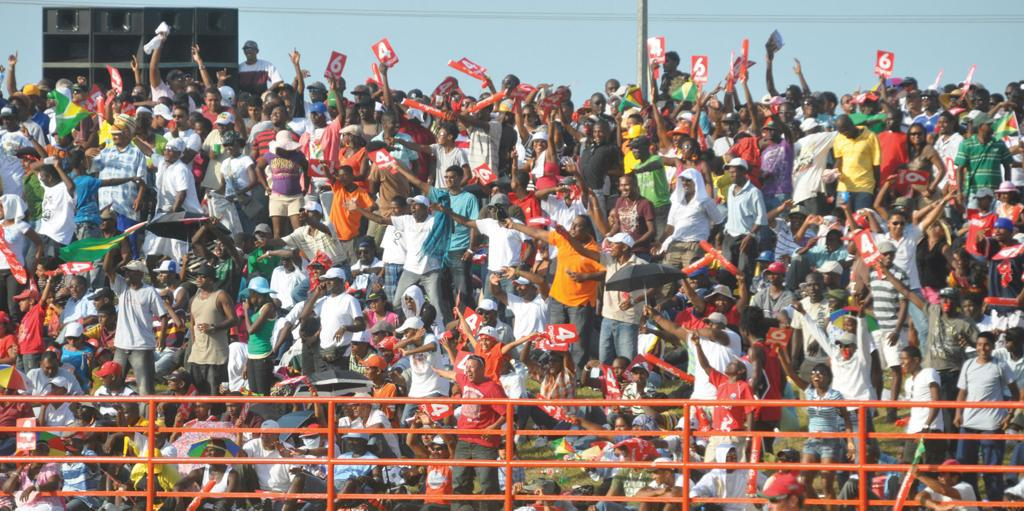face: (767, 494, 792, 511), (69, 278, 88, 300), (898, 351, 916, 374), (737, 320, 752, 346), (806, 278, 822, 302), (977, 337, 993, 361), (778, 104, 795, 126), (117, 402, 134, 424), (203, 441, 220, 463), (925, 221, 945, 239), (225, 398, 242, 419), (248, 287, 266, 306), (326, 274, 344, 293), (96, 424, 113, 444), (570, 218, 586, 239), (618, 176, 633, 198), (466, 361, 481, 383), (791, 213, 808, 232), (715, 296, 732, 315), (173, 108, 189, 128), (684, 142, 700, 162), (910, 126, 926, 146), (352, 402, 372, 418), (42, 360, 59, 378), (348, 437, 366, 454), (432, 443, 449, 461), (839, 343, 856, 361), (131, 84, 147, 103), (270, 106, 286, 125), (444, 170, 460, 189), (523, 108, 539, 127), (721, 119, 737, 138), (34, 262, 50, 281), (302, 436, 321, 452), (811, 370, 827, 389), (739, 105, 754, 125), (825, 233, 840, 253), (631, 140, 645, 161), (238, 294, 255, 311), (591, 95, 606, 114), (681, 176, 696, 195), (891, 216, 906, 235), (194, 400, 209, 419), (248, 103, 262, 123), (437, 126, 451, 146), (608, 209, 622, 229), (887, 113, 901, 133), (339, 399, 353, 419), (547, 355, 561, 375), (422, 428, 435, 449), (998, 188, 1015, 204), (2, 385, 18, 402), (263, 433, 279, 450), (312, 264, 328, 281), (370, 297, 386, 314), (613, 419, 629, 436), (818, 97, 833, 115), (937, 116, 952, 134), (861, 96, 875, 115), (359, 246, 373, 265), (941, 296, 955, 315), (592, 124, 605, 144), (539, 242, 552, 262), (896, 205, 912, 221), (99, 373, 115, 389), (361, 366, 377, 382), (678, 427, 694, 443), (778, 458, 794, 474), (937, 471, 953, 487), (804, 98, 819, 115), (303, 208, 318, 225), (351, 340, 366, 357), (615, 448, 630, 465), (537, 483, 552, 500), (339, 169, 353, 187), (411, 202, 425, 220), (672, 132, 686, 150), (663, 55, 677, 73), (837, 125, 855, 139), (213, 240, 227, 258), (955, 254, 969, 272), (10, 101, 24, 119), (207, 93, 220, 112), (381, 114, 394, 133), (728, 165, 741, 184), (613, 360, 626, 379), (726, 453, 739, 472), (1005, 335, 1018, 354), (963, 301, 976, 320), (138, 113, 154, 128), (491, 205, 506, 221), (758, 104, 774, 119), (975, 90, 987, 110), (1005, 84, 1017, 104), (46, 353, 62, 368), (75, 403, 90, 419), (371, 332, 386, 348), (164, 145, 178, 162), (310, 109, 324, 126), (626, 116, 640, 133), (785, 90, 799, 107), (92, 295, 106, 312), (22, 157, 36, 174), (280, 252, 293, 270), (480, 335, 493, 353), (633, 368, 646, 386), (843, 316, 856, 334), (863, 444, 875, 463), (219, 121, 234, 136), (842, 97, 857, 112), (499, 448, 514, 463), (725, 360, 740, 375), (977, 195, 991, 211), (98, 216, 112, 232), (157, 270, 171, 286), (35, 446, 51, 460), (480, 310, 494, 326), (881, 251, 895, 267), (194, 121, 207, 138), (174, 79, 187, 96), (461, 99, 474, 116), (406, 295, 419, 312), (632, 422, 645, 439), (285, 99, 296, 119), (112, 98, 124, 116), (37, 92, 49, 110), (267, 97, 281, 112), (560, 183, 574, 198), (907, 94, 921, 109), (921, 96, 936, 110), (194, 274, 208, 289), (403, 328, 417, 343), (514, 283, 528, 298), (674, 100, 689, 114), (51, 384, 66, 398), (158, 113, 171, 129), (309, 87, 322, 103), (329, 105, 342, 121), (493, 187, 506, 203), (500, 109, 513, 125), (607, 82, 620, 98), (993, 226, 1006, 242), (255, 231, 268, 247), (654, 469, 667, 485), (687, 277, 703, 290), (187, 86, 200, 102), (821, 271, 834, 287), (359, 104, 371, 121), (610, 241, 622, 258), (19, 296, 31, 313), (561, 102, 572, 120), (54, 133, 68, 147), (244, 46, 258, 60), (533, 139, 547, 153), (678, 118, 692, 132), (98, 352, 112, 366), (501, 76, 514, 91), (97, 313, 110, 328), (2, 116, 15, 131), (39, 170, 51, 186), (161, 292, 173, 308), (26, 95, 38, 111), (846, 240, 858, 256), (967, 88, 976, 109), (510, 174, 521, 191), (111, 133, 125, 146), (763, 127, 776, 141), (885, 85, 898, 99), (903, 82, 917, 95), (67, 336, 81, 349), (280, 146, 294, 159), (72, 88, 84, 103), (584, 120, 596, 135), (999, 103, 1011, 118), (46, 289, 56, 307), (65, 440, 80, 452), (896, 445, 906, 463), (455, 490, 467, 505), (482, 94, 493, 110), (948, 93, 959, 109), (80, 154, 90, 171), (354, 93, 367, 106), (390, 203, 403, 216), (166, 379, 179, 392), (240, 98, 252, 112), (333, 80, 345, 94), (556, 88, 568, 102), (708, 320, 722, 332), (560, 159, 571, 174), (611, 100, 622, 115), (651, 246, 662, 261), (223, 92, 234, 107), (279, 87, 291, 100), (768, 272, 780, 285), (413, 100, 425, 113), (224, 143, 235, 157), (958, 93, 968, 108), (124, 269, 134, 284), (46, 95, 57, 108), (159, 99, 170, 112), (366, 84, 379, 95), (381, 95, 391, 109), (393, 91, 403, 105), (58, 84, 70, 95), (422, 312, 433, 324), (759, 259, 770, 271), (344, 132, 354, 145), (453, 386, 463, 399), (989, 99, 998, 113), (985, 123, 994, 137), (454, 395, 464, 407), (1017, 428, 1024, 444), (584, 106, 594, 117), (77, 77, 88, 86), (578, 109, 586, 120), (1, 321, 6, 338), (1, 200, 5, 221), (550, 108, 558, 118), (187, 76, 192, 81)
